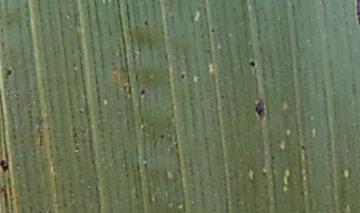tarspot: (253, 98, 265, 121), (1, 183, 9, 210), (352, 1, 360, 25), (1, 158, 10, 173), (138, 87, 147, 97), (298, 143, 307, 151), (248, 60, 255, 69), (4, 68, 12, 75), (142, 19, 149, 26), (209, 27, 216, 34), (269, 154, 276, 161), (179, 72, 185, 80), (218, 46, 223, 55), (3, 74, 10, 80), (159, 133, 165, 140), (260, 170, 267, 176), (339, 168, 345, 175), (77, 108, 83, 115), (1, 41, 6, 49), (73, 146, 79, 152), (46, 208, 52, 213), (205, 48, 210, 54), (219, 94, 225, 99), (1, 25, 4, 34)
